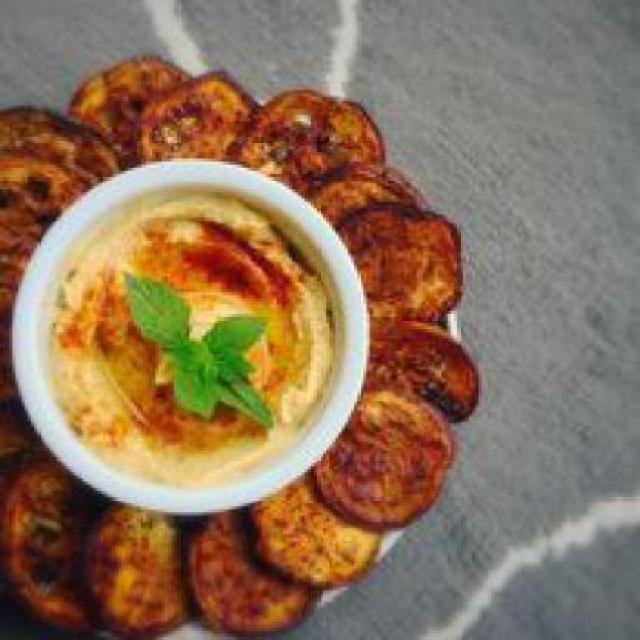hummus: (52, 193, 336, 482)
